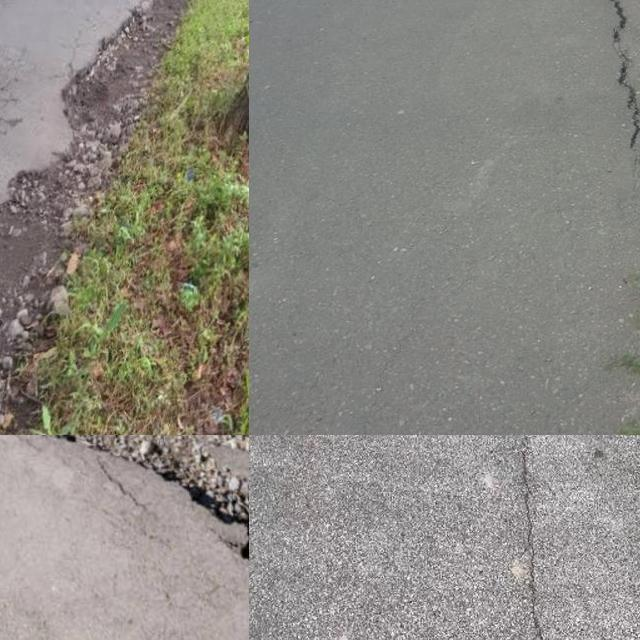Memanjang: (506, 435, 564, 640)
Pinggir: (0, 0, 173, 435), (53, 435, 249, 567)
